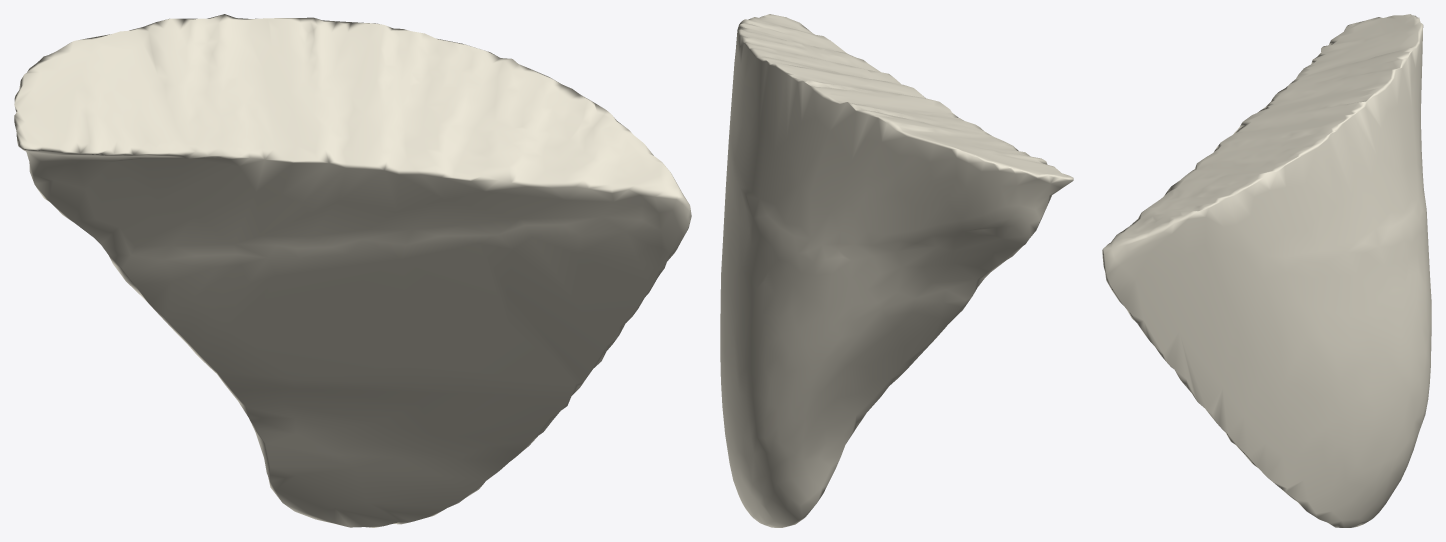
Rendered from fma57733_mm885.glb.
3 views of the same model, side by side, from view 1: azimuth 30°, elevation 25°; view 2: azimuth 150°, elevation 25°; view 3: azimuth 270°, elevation 25° (orthographic). The views are drawn at different scales.
Parts seen in each view (by area): view 1: FMA57733_MM885; view 2: FMA57733_MM885; view 3: FMA57733_MM885.
Part boxes in pixels (box(x1,y1,x2,y2)): FMA57733_MM885: box(14, 14, 691, 527); FMA57733_MM885: box(720, 14, 1073, 527); FMA57733_MM885: box(1102, 14, 1431, 527).
Bounding box in the file's own units: 0.0118 × 0.0117 × 0.0086.
